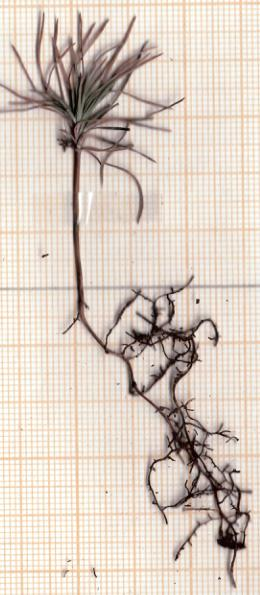flower: (0, 0, 178, 225)
root: (77, 280, 260, 595)
stem: (68, 153, 92, 322)
